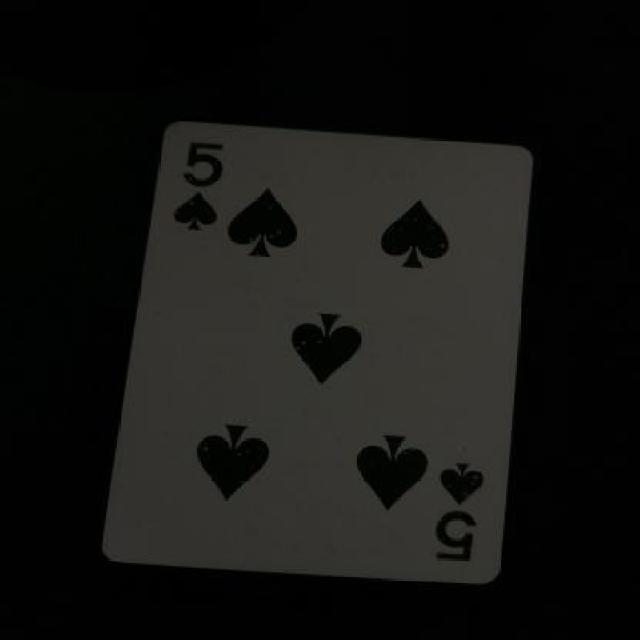5S: (154, 130, 248, 244), (422, 443, 498, 572)
